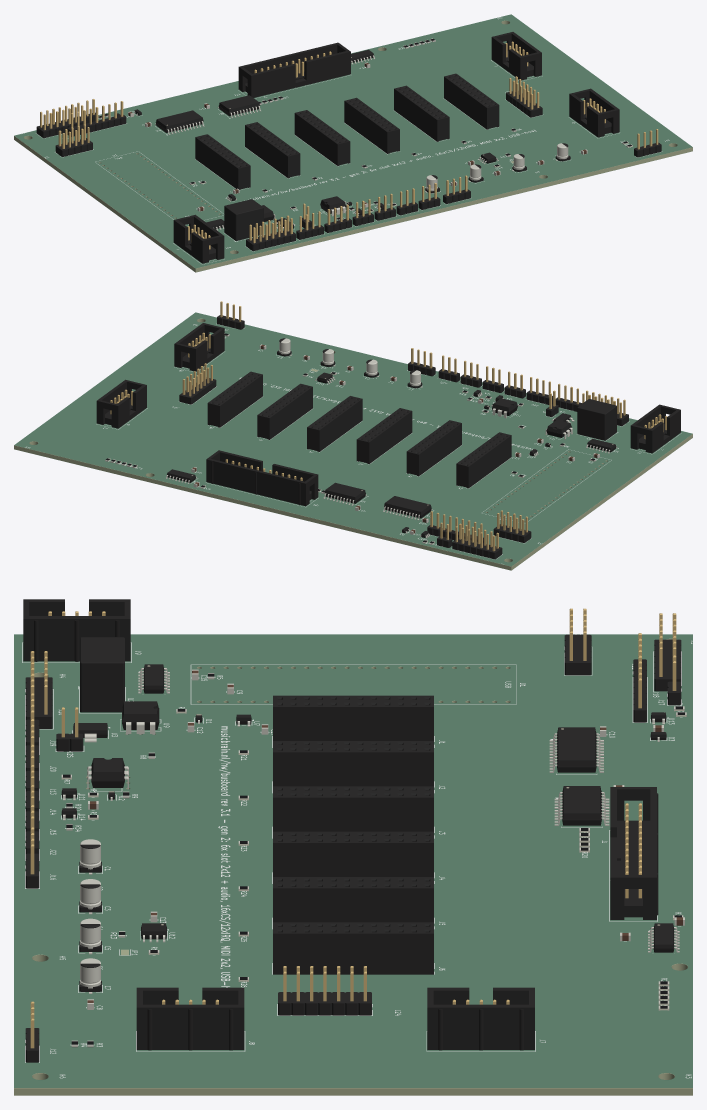
File: musicbrain-busboard.glb
3 views of the same model, one above another, from view 1: azimuth 30°, elevation 25°; view 2: azimuth 150°, elevation 25°; view 3: azimuth 270°, elevation 25° (orthographic). The views are drawn at different scales.
Visible parts, largest first — view 1: =>[0:1:1:47], =>[0:1:1:49], =>[0:1:1:15] (×6), =>[0:1:1:3] (×3), =>[0:1:1:39], =>[0:1:1:17] (×3), =>[0:1:1:19] (×4), =>[0:1:1:46], =>[0:1:1:5], =>[0:1:1:25], =>[0:1:1:31], =>[0:1:1:33] (+1 smaller); view 2: =>[0:1:1:47], =>[0:1:1:49], =>[0:1:1:15] (×6), =>[0:1:1:3] (×3), =>[0:1:1:39], =>[0:1:1:17] (×3), =>[0:1:1:46], =>[0:1:1:5], =>[0:1:1:19] (×2), =>[0:1:1:31], =>[0:1:1:33], =>[0:1:1:25] (+1 smaller); view 3: =>[0:1:1:47], =>[0:1:1:49], =>[0:1:1:15] (×6), =>[0:1:1:3] (×3), =>[0:1:1:39], =>[0:1:1:17] (×3), =>[0:1:1:46], =>[0:1:1:5], =>[0:1:1:33], =>[0:1:1:43] (×2), =>[0:1:1:37], =>[0:1:1:35] (×2) (+2 smaller).
Boxes of the visible parts, left/top/right/bottom form: =>[0:1:1:47]: left=14, top=14, right=692, bottom=268; =>[0:1:1:49]: left=14, top=15, right=692, bottom=272; =>[0:1:1:15] (×6): left=195, top=73, right=499, bottom=189; =>[0:1:1:3] (×3): left=173, top=32, right=619, bottom=263; =>[0:1:1:39]: left=238, top=42, right=350, bottom=97; =>[0:1:1:17] (×3): left=36, top=76, right=542, bottom=251; =>[0:1:1:19] (×4): left=296, top=129, right=661, bottom=239; =>[0:1:1:46]: left=22, top=17, right=669, bottom=264; =>[0:1:1:5]: left=224, top=199, right=263, bottom=240; =>[0:1:1:25]: left=67, top=101, right=126, bottom=136; =>[0:1:1:31]: left=55, top=124, right=92, bottom=156; =>[0:1:1:33]: left=155, top=110, right=204, bottom=134; =>[0:1:1:47]: left=14, top=312, right=692, bottom=566; =>[0:1:1:49]: left=14, top=313, right=692, bottom=570; =>[0:1:1:15] (×6): left=207, top=371, right=511, bottom=488; =>[0:1:1:3] (×3): left=96, top=323, right=680, bottom=453; =>[0:1:1:39]: left=206, top=450, right=318, bottom=506; =>[0:1:1:17] (×3): left=179, top=363, right=628, bottom=559; =>[0:1:1:46]: left=25, top=323, right=681, bottom=563; =>[0:1:1:5]: left=577, top=399, right=616, bottom=440; =>[0:1:1:19] (×2): left=217, top=301, right=435, bottom=376; =>[0:1:1:31]: left=493, top=510, right=531, bottom=542; =>[0:1:1:33]: left=383, top=496, right=432, bottom=520; =>[0:1:1:25]: left=427, top=511, right=483, bottom=543; =>[0:1:1:47]: left=14, top=634, right=692, bottom=1087; =>[0:1:1:49]: left=14, top=635, right=692, bottom=1095; =>[0:1:1:15] (×6): left=273, top=695, right=433, bottom=974; =>[0:1:1:3] (×3): left=23, top=599, right=534, bottom=1050; =>[0:1:1:39]: left=610, top=787, right=658, bottom=919; =>[0:1:1:17] (×3): left=25, top=613, right=681, bottom=1015; =>[0:1:1:46]: left=22, top=634, right=692, bottom=1078; =>[0:1:1:5]: left=80, top=637, right=124, bottom=712; =>[0:1:1:33]: left=549, top=727, right=603, bottom=772; =>[0:1:1:43] (×2): left=87, top=701, right=159, bottom=789; =>[0:1:1:37]: left=554, top=786, right=609, bottom=825; =>[0:1:1:35] (×2): left=138, top=664, right=679, bottom=952.
Size of the model in its own units: 0.2032 by 0.0145 by 0.1285.
